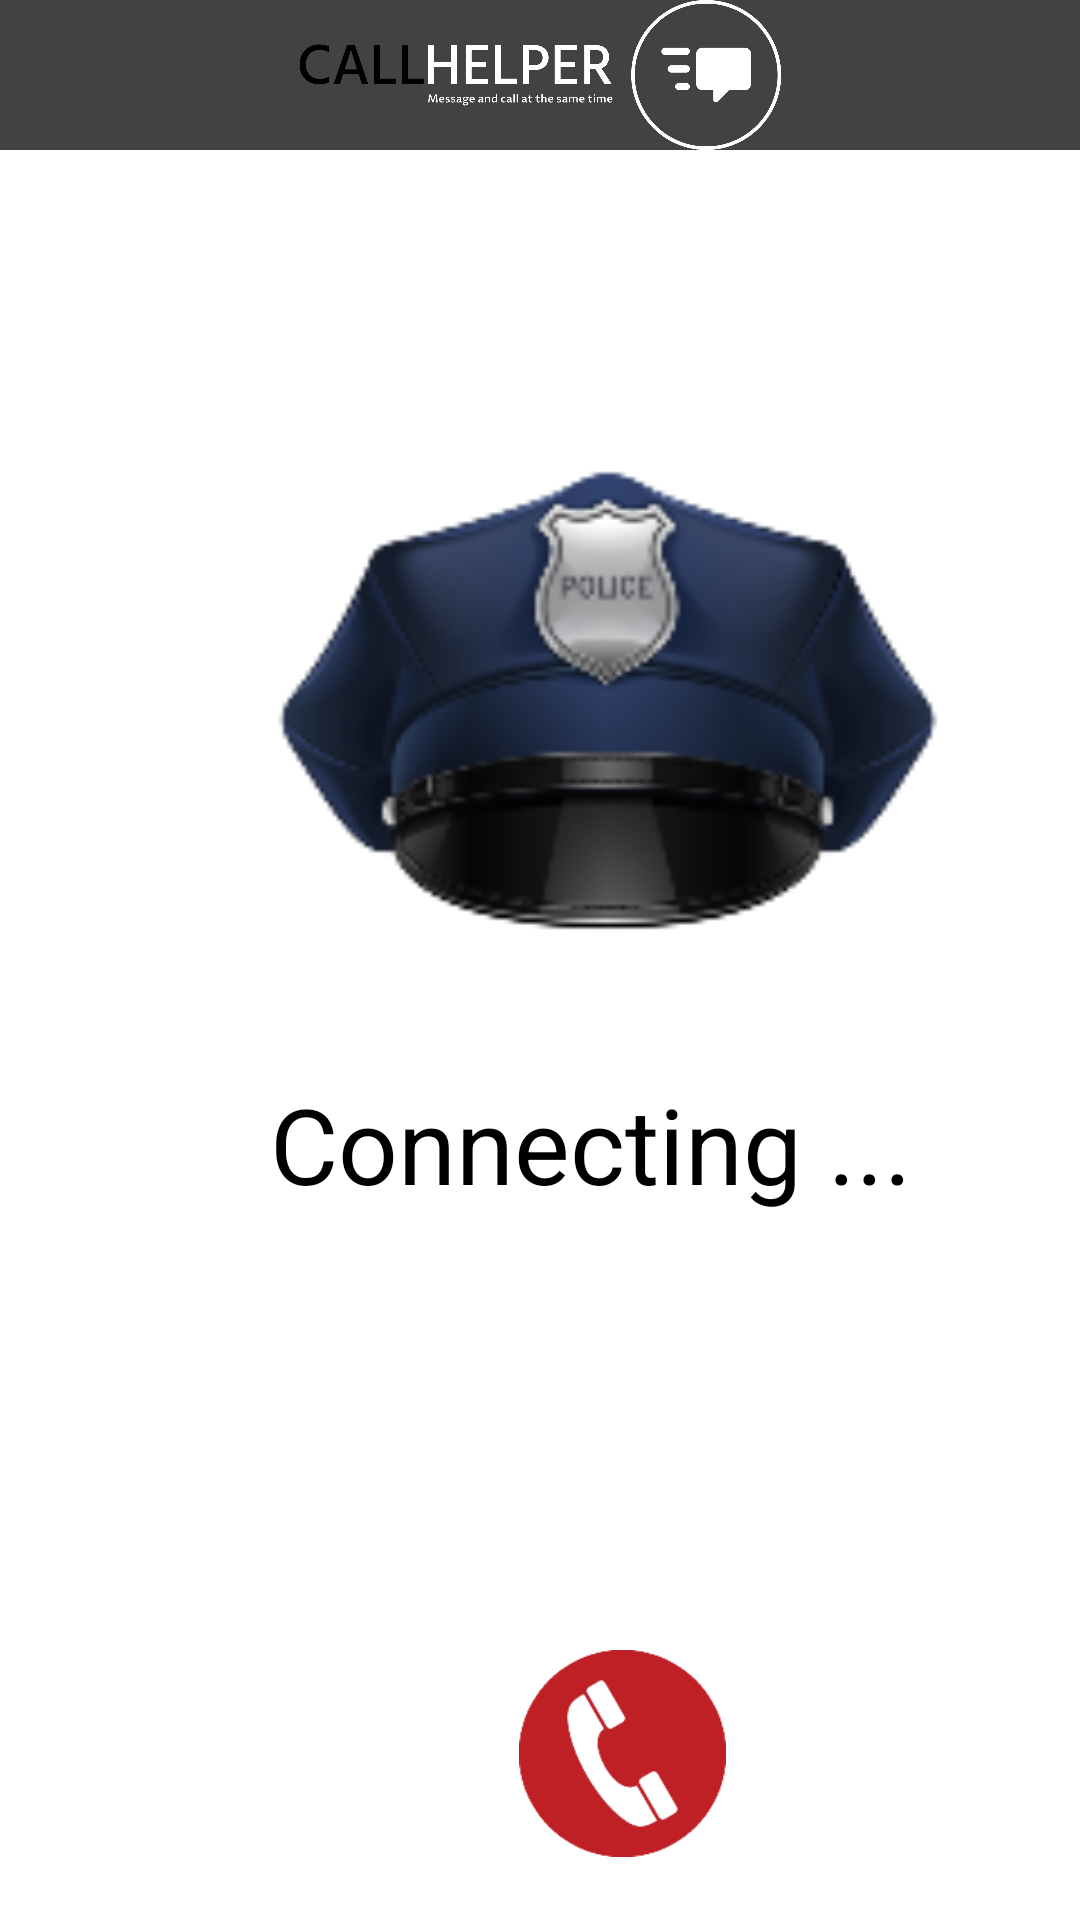

Point at icon controls on the screen. Image size 1080px x 1920px, points as point (x, y).
endcall: point (622, 1753)
